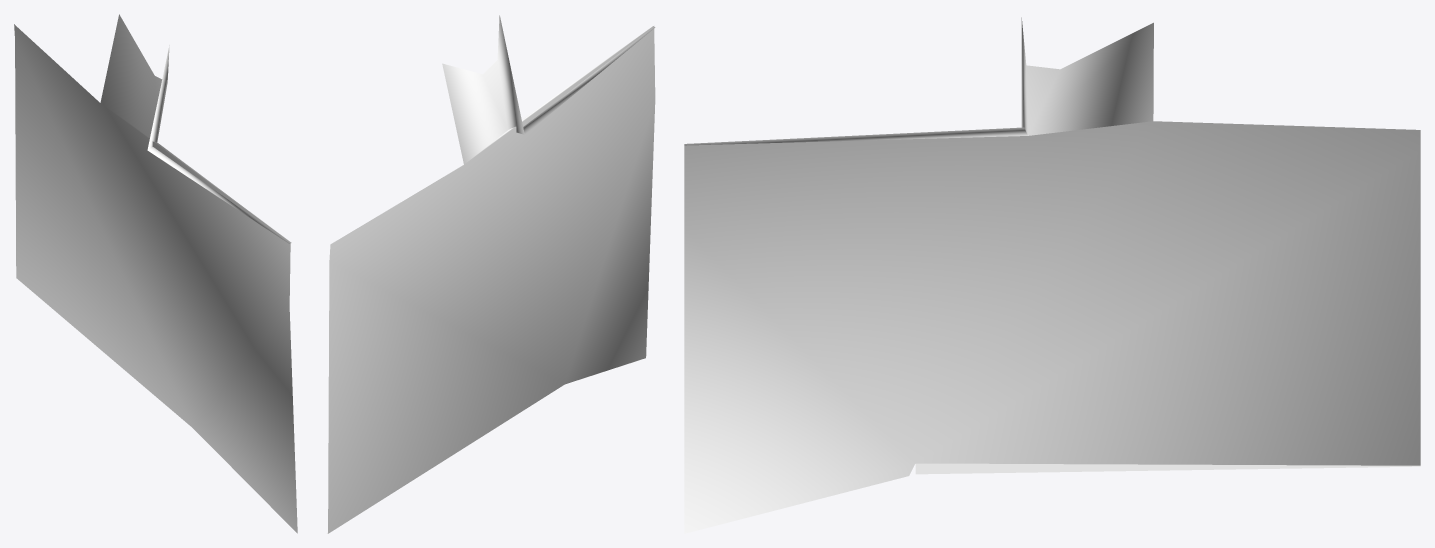
3 renders of one model, left to right at view 1: azimuth 30°, elevation 25°; view 2: azimuth 150°, elevation 25°; view 3: azimuth 270°, elevation 25°, orthographic. The views are drawn at different scales.
Size of the model in its own units: 0.0609 by 1.04 by 1.33.
Materials: 1 (1 with a texture image).
